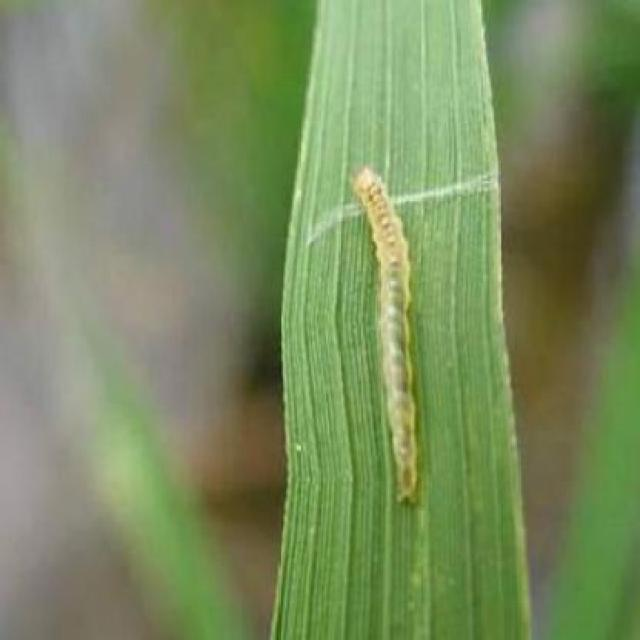leaf-folder: (344, 151, 434, 511)
